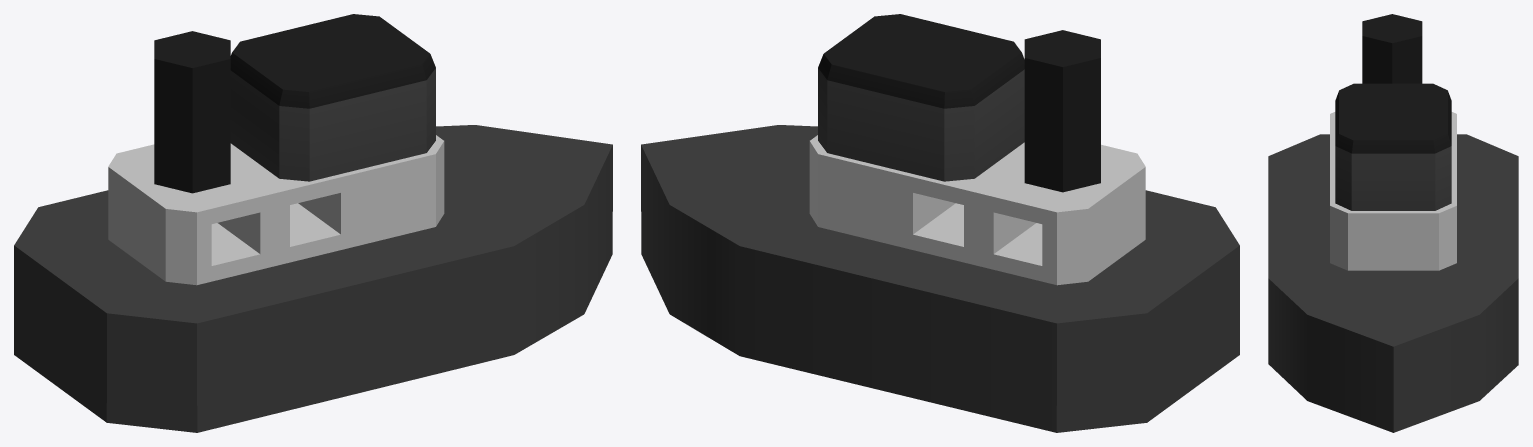
Rendered from Boat_D.FBX.
3 renders of one model, left to right at view 1: azimuth 30°, elevation 25°; view 2: azimuth 150°, elevation 25°; view 3: azimuth 270°, elevation 25°, orthographic. The views are drawn at different scales.
Visible parts, largest first — view 1: Boat; view 2: Boat; view 3: Boat.
Boxes of the visible parts, x1,y1,x2,y2 form: Boat: (14, 14, 612, 432); Boat: (641, 14, 1239, 432); Boat: (1268, 14, 1518, 432).
Size of the model in its own units: 119 by 63.46 by 59.25.
